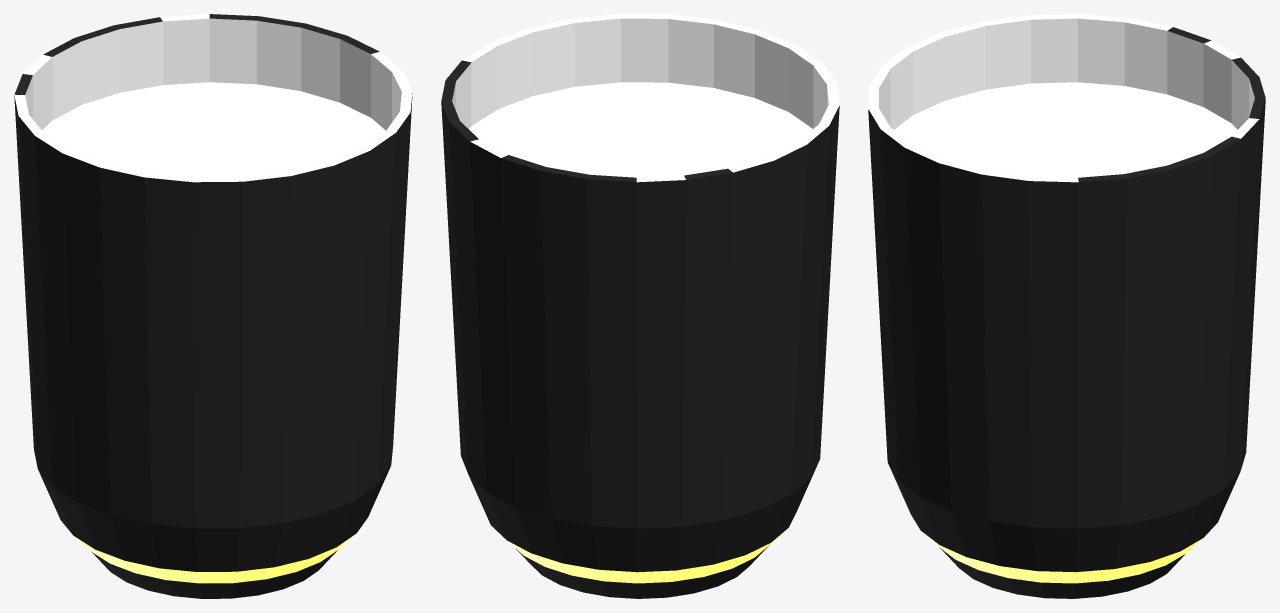
The model's file is container3.glb.
3 renders of one model, left to right at view 1: azimuth 30°, elevation 25°; view 2: azimuth 150°, elevation 25°; view 3: azimuth 270°, elevation 25°, orthographic.
Visible parts, largest first — view 1: Cylinder; view 2: Cylinder; view 3: Cylinder.
Part boxes in pixels (left/top/right/bottom): Cylinder: left=14, top=14, right=412, bottom=598; Cylinder: left=441, top=14, right=839, bottom=598; Cylinder: left=868, top=14, right=1265, bottom=598.
Size of what is drawn, in the model's own units: 2.39 by 2.99 by 2.39.
2 materials, 1 textured.
